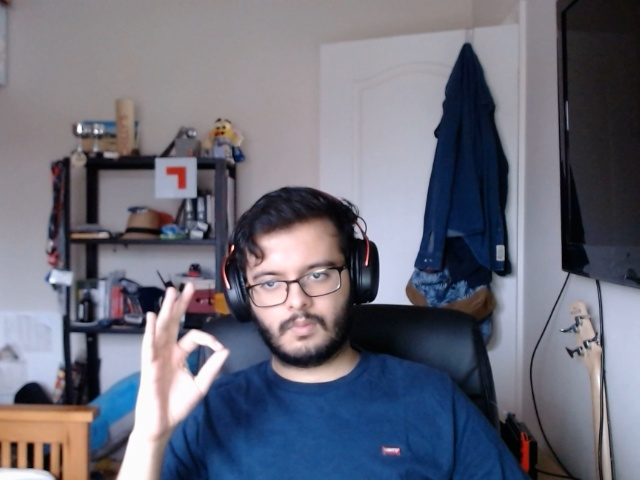Okay: (113, 282, 238, 424)
